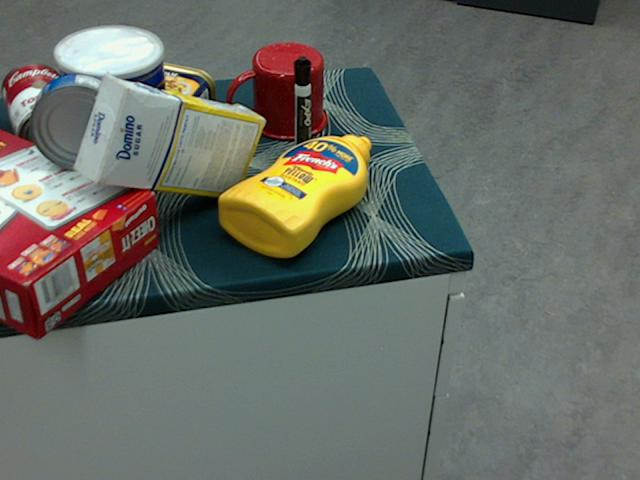cracker_box: (0, 129, 159, 335)
large_marker: (292, 56, 311, 161)
master_chef_can: (55, 27, 169, 196)
mug: (225, 43, 325, 141)
mustard_bottle: (218, 133, 371, 257)
potted_meat_can: (103, 59, 215, 147)
sugar_box: (74, 77, 264, 198)
tomato_soup_can: (4, 61, 80, 161)
tuna_fish_can: (29, 73, 125, 170)
